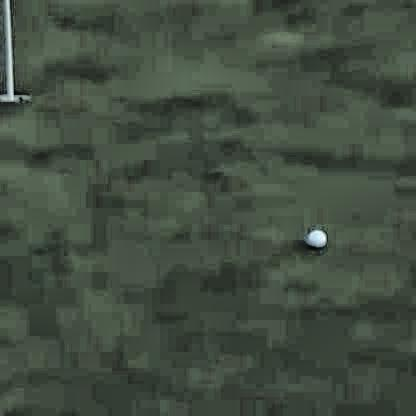golfball: (304, 228, 323, 246)
